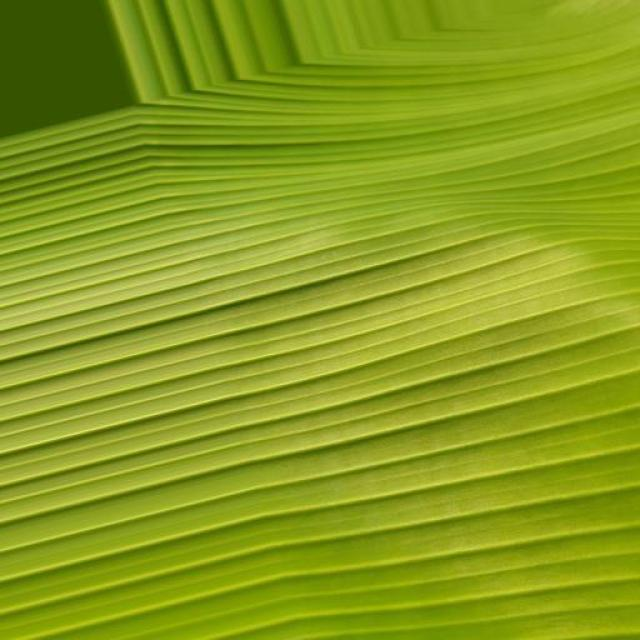Black_leaf_spot: (0, 79, 639, 630)
